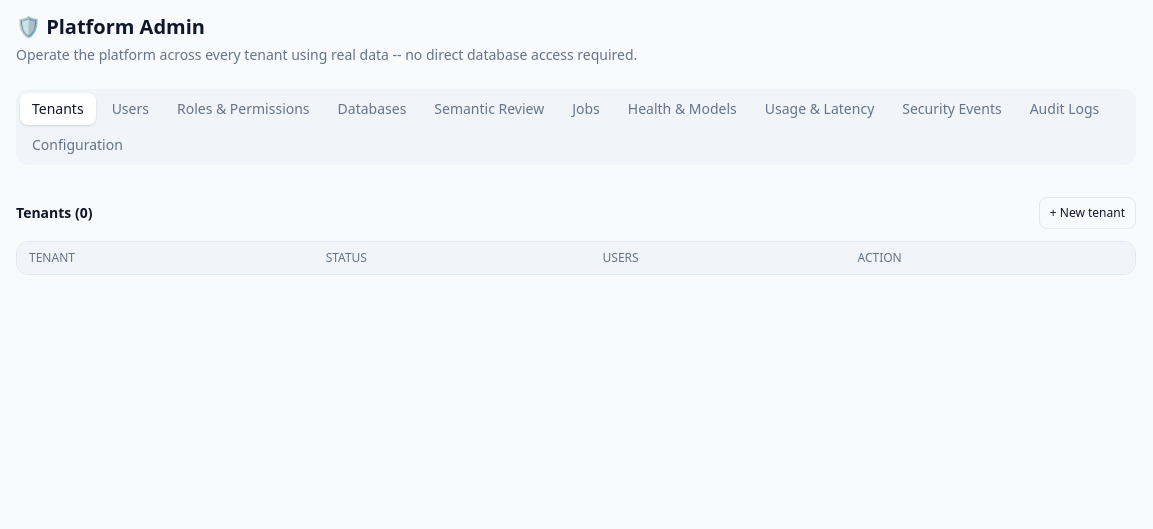
Scenario: PlatformAdmin › shows merged usage metrics with no tenant scoping
Click the tab "Usage & Latency": (820, 109) [753, 93, 886, 125]
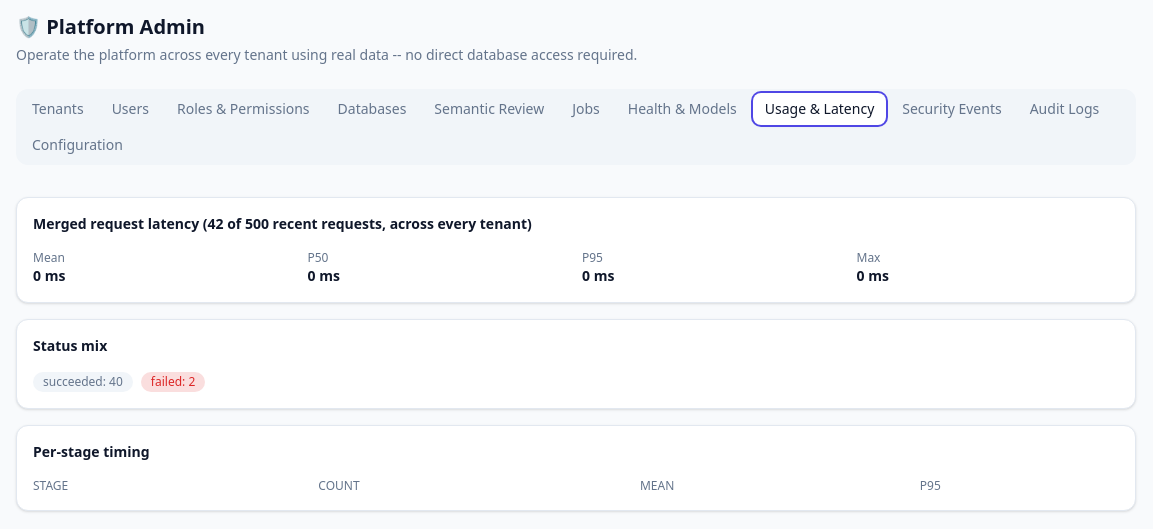
Check: the heading "42 of 500" is shown, box [33, 214, 532, 233]
Check: the text "failed: 2" is shown, box [141, 372, 205, 392]
